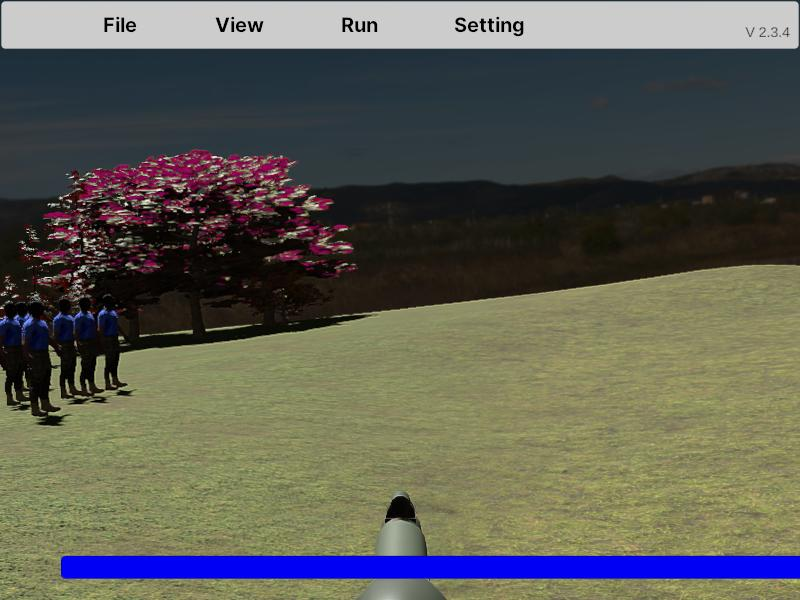Human: (21, 302, 61, 415), (0, 300, 31, 407), (97, 294, 130, 391), (74, 295, 102, 396), (53, 298, 81, 398)
